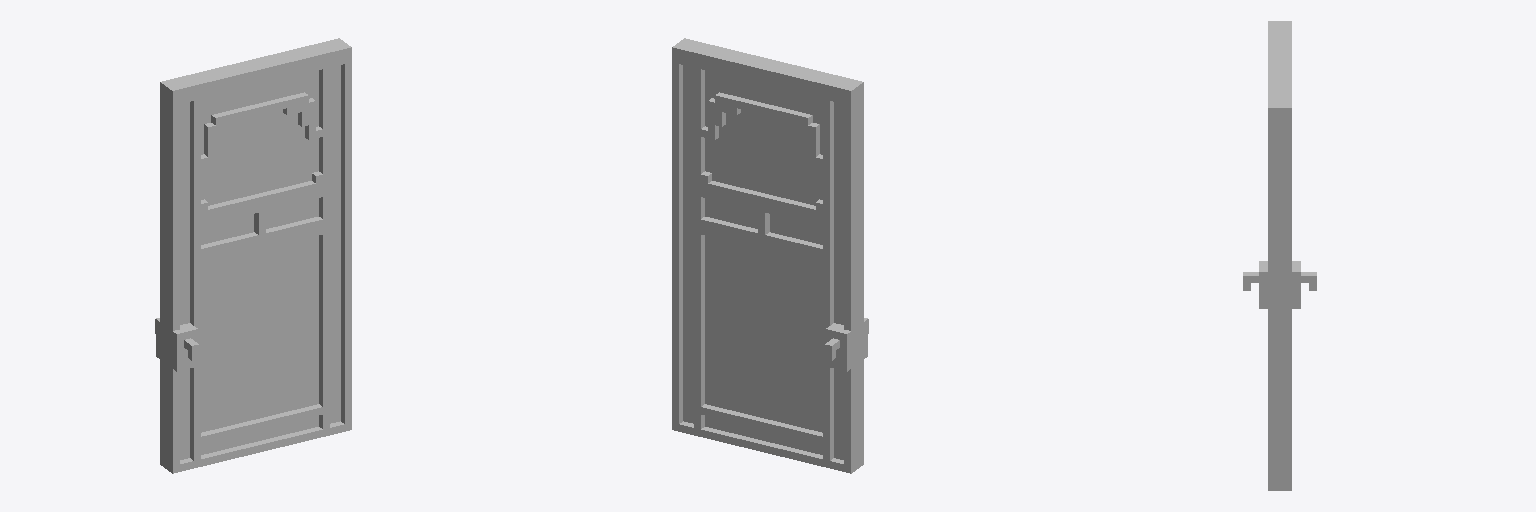
Rendered from Door.obj.
3 views of the same model, side by side, from view 1: azimuth 30°, elevation 25°; view 2: azimuth 150°, elevation 25°; view 3: azimuth 270°, elevation 25° (orthographic).
Visible parts, largest first — view 1: Untitled; view 2: Untitled; view 3: Untitled.
Part boxes in pixels (left/top/right/bottom): Untitled: left=155, top=38, right=351, bottom=473; Untitled: left=672, top=38, right=868, bottom=473; Untitled: left=1243, top=21, right=1316, bottom=490.
Bounding box in the file's own units: 2.5 × 5.1 × 0.9.